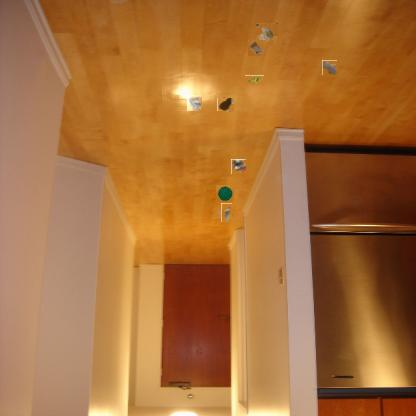dirty: (256, 23, 278, 45), (216, 184, 234, 202), (248, 40, 266, 56), (219, 205, 234, 220), (187, 96, 202, 111), (231, 159, 246, 174), (244, 75, 264, 84)
liquid: (218, 97, 234, 112), (322, 60, 337, 75)
